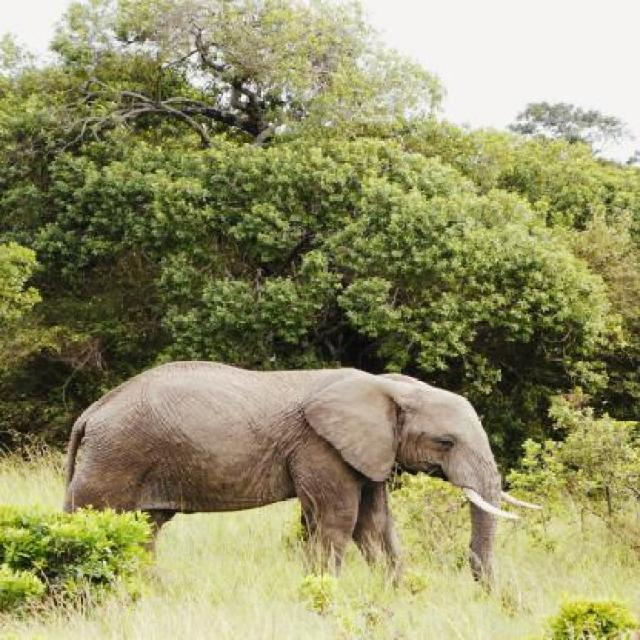Elephant: (46, 355, 574, 627)
